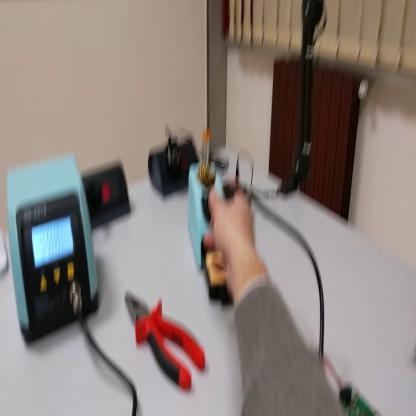hand: (206, 182, 259, 289)
high voltage board: (351, 397, 376, 416)
pliers: (125, 291, 208, 393)
screwdriver-: (322, 348, 354, 408)
socket: (81, 158, 134, 229), (148, 133, 198, 200)
welder base: (190, 161, 236, 306)
welder probe tip: (214, 179, 235, 196)
welder station: (6, 152, 101, 346)
